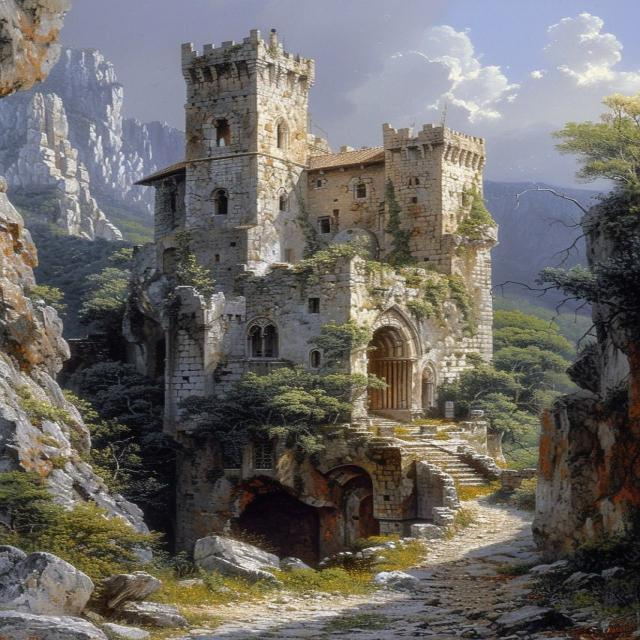castle: (100, 28, 519, 466)
